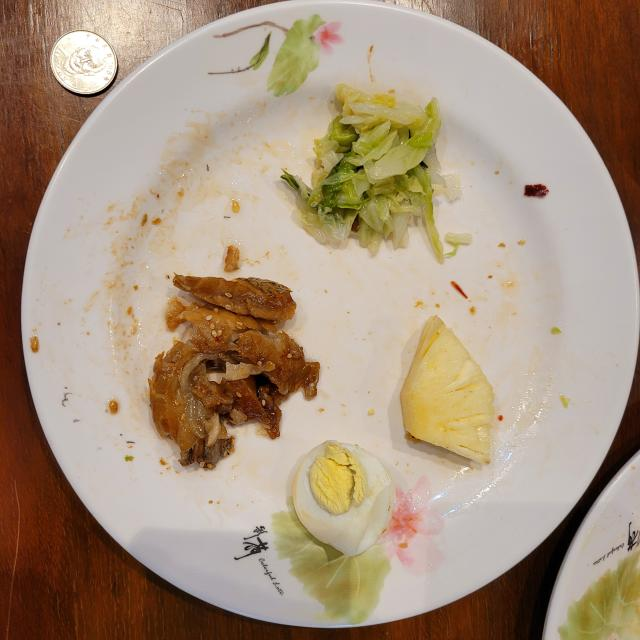Kabayaki sea bream fillet: (149, 275, 320, 469)
cabbage: (281, 84, 461, 262)
coin: (51, 30, 118, 94)
pineapple: (400, 316, 494, 464)
